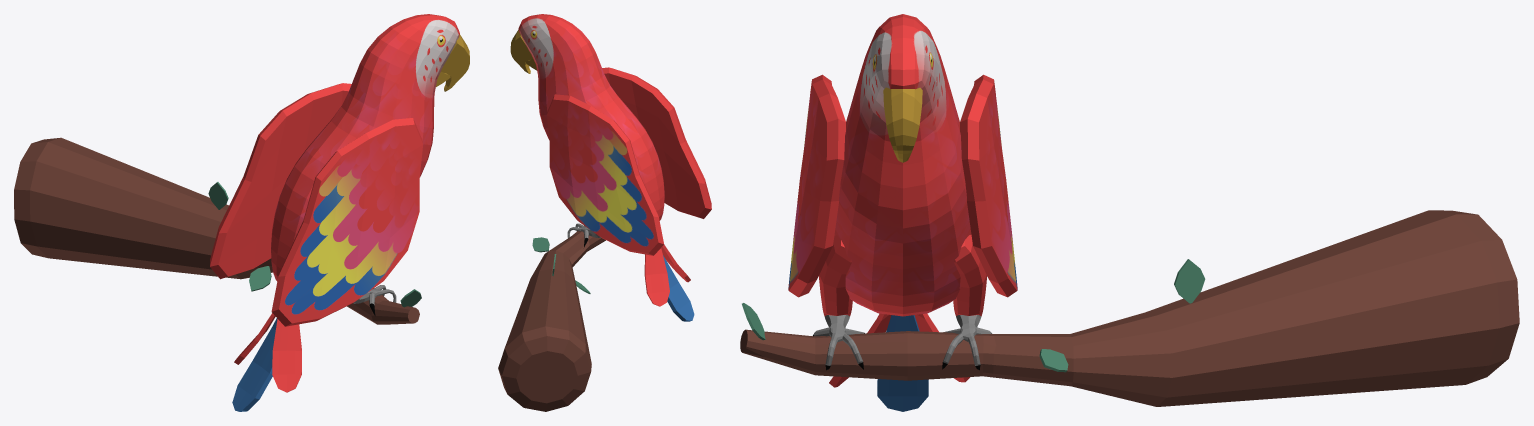
Rendered from TutorialMacaw.fbx.
3 renders of one model, left to right at view 1: azimuth 30°, elevation 25°; view 2: azimuth 150°, elevation 25°; view 3: azimuth 270°, elevation 25°, orthographic. The views are drawn at different scales.
Parts seen in each view (by area): view 1: Macaw.001, branch.001; view 2: Macaw.001, branch.001; view 3: branch.001, Macaw.001.
Boxes of the visible parts, <box> form: Macaw.001: <box>210,14,469,411</box>; branch.001: <box>14,137,421,324</box>; Macaw.001: <box>510,14,711,321</box>; branch.001: <box>498,225,605,411</box>; branch.001: <box>740,210,1519,406</box>; Macaw.001: <box>788,14,1017,411</box>.
Size of the model in its own units: 107 by 129 by 177.
Materials: 8 (2 with a texture image).
